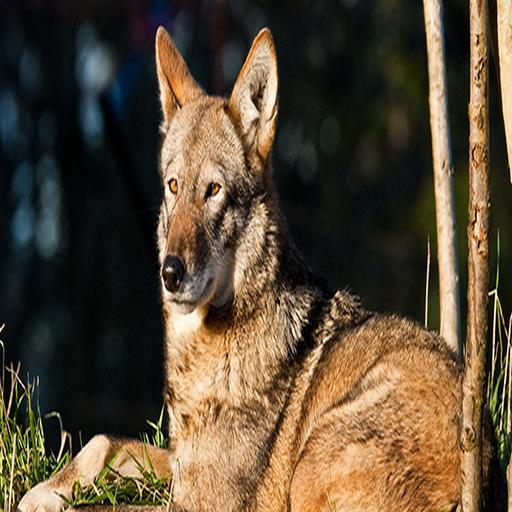Wolf: (16, 23, 512, 510)
